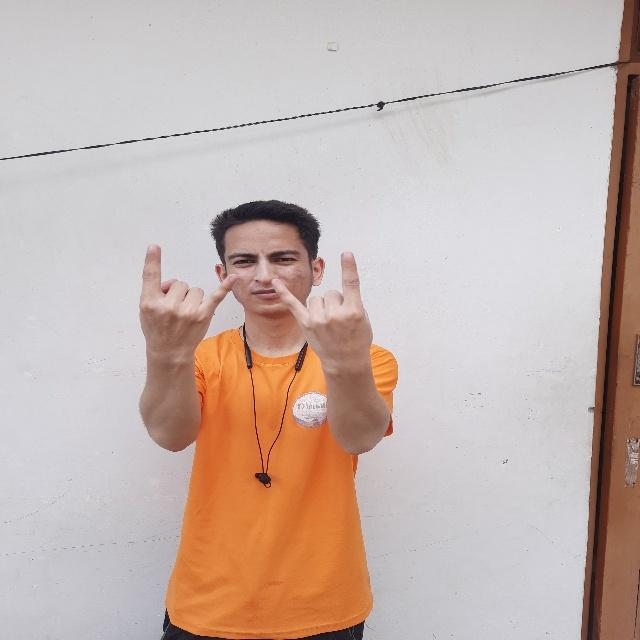Corna: (265, 247, 387, 379), (135, 232, 241, 368)
